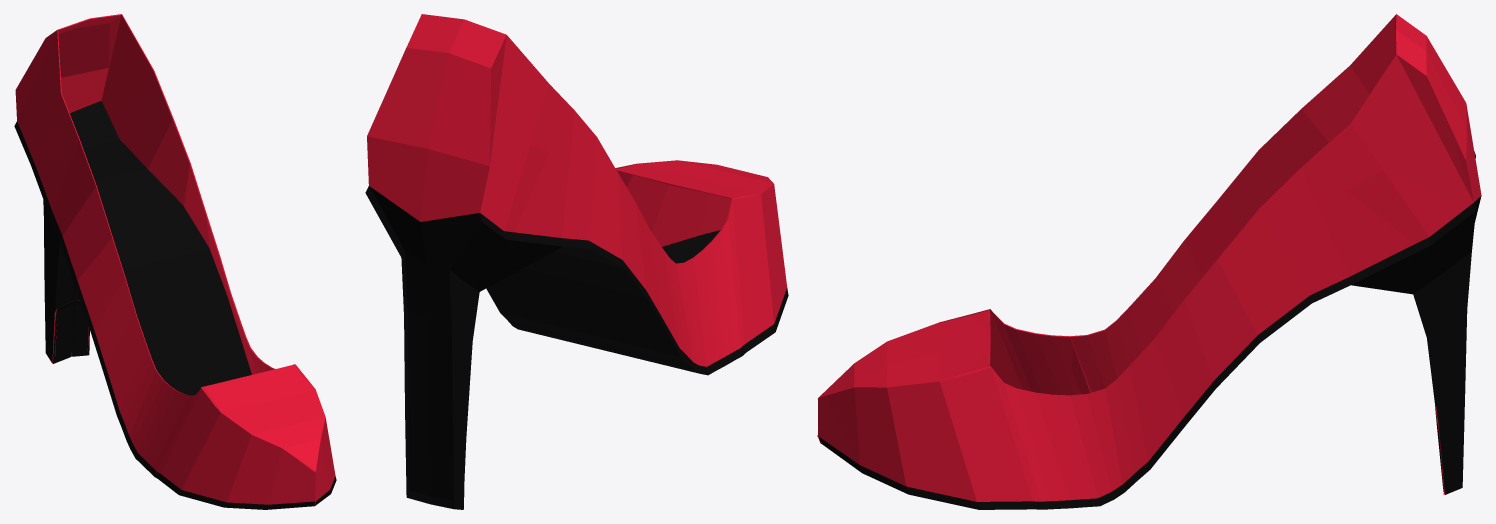
The model's file is Shoes.fbx.
3 views of the same model, side by side, from view 1: azimuth 30°, elevation 25°; view 2: azimuth 150°, elevation 25°; view 3: azimuth 270°, elevation 25° (orthographic). The views are drawn at different scales.
Parts seen in each view (by area): view 1: Plane; view 2: Plane; view 3: Plane.
Part boxes in pixels (bbox=[...]): Plane: bbox=[14, 14, 336, 509]; Plane: bbox=[365, 14, 788, 509]; Plane: bbox=[817, 14, 1481, 509].
Bounding box in the file's own units: 161 × 369 × 490.
